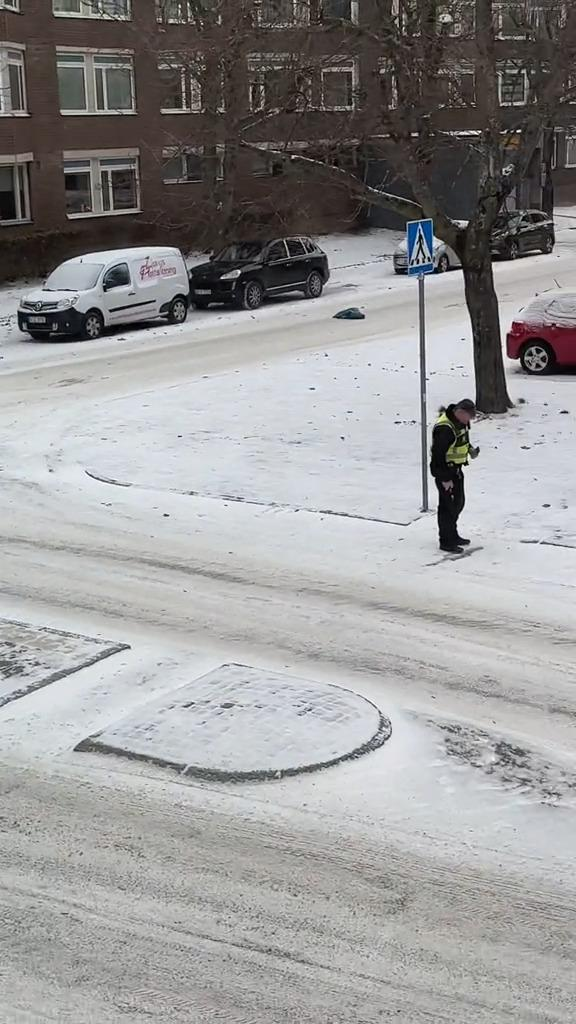parking-attendant: (430, 399, 478, 553)
